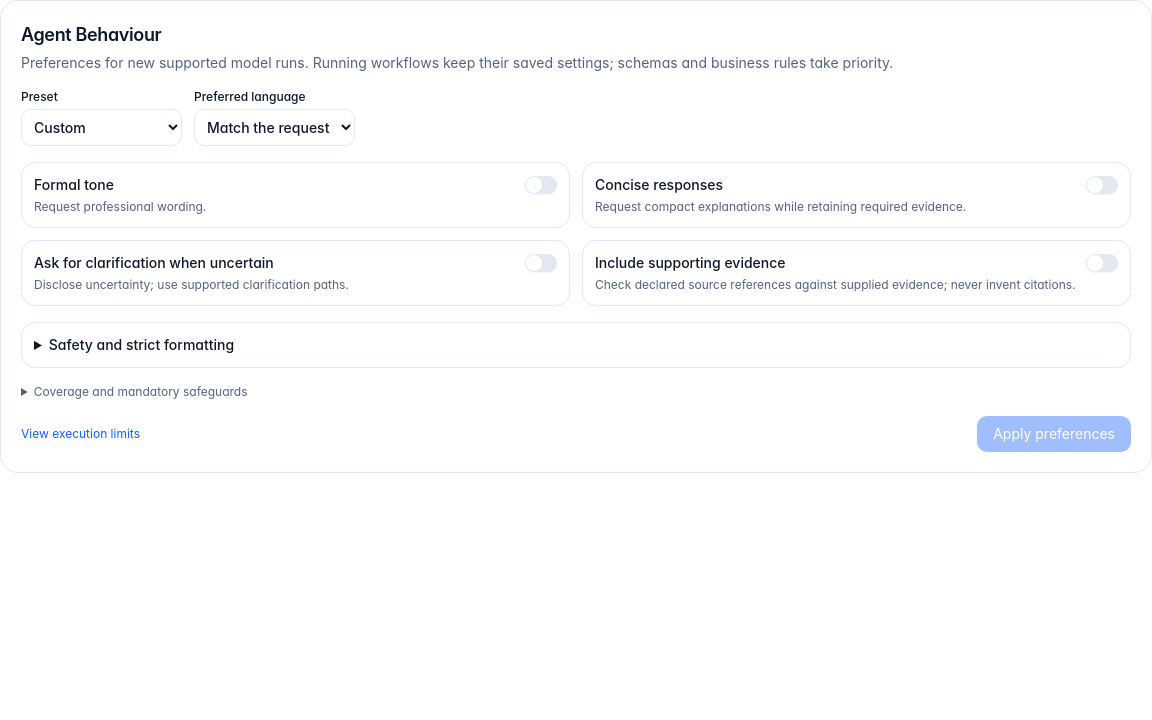
Test: presets visibly change switches and persist language with the actual backend settings revision
Select "Evidence-focused" in the dropdown named "Behaviour preset" at (102, 128), box [21, 109, 182, 146]
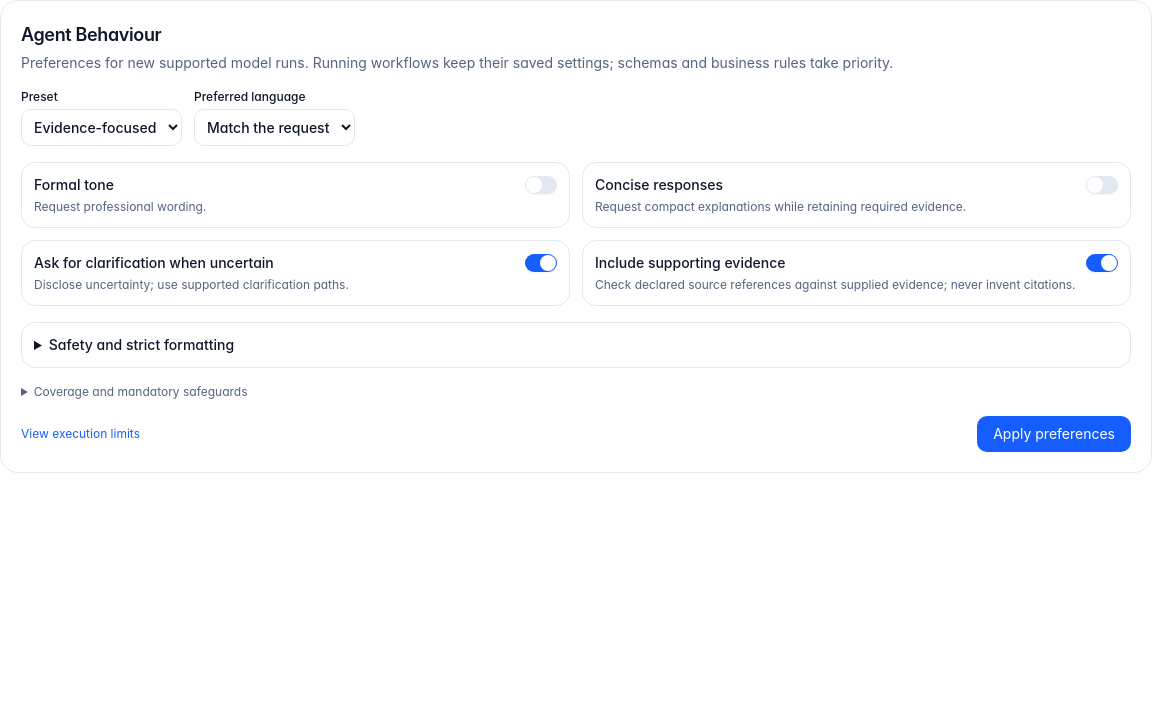
Expected: the switch named "Include supporting evidence" is checked, [1086, 254, 1118, 272]
Expected: the switch named "Ask for clarification when uncertain" is checked, [525, 254, 557, 272]
Select "Tamil" in the dropdown labelled "Preferred language" at (274, 128), box [194, 109, 355, 146]
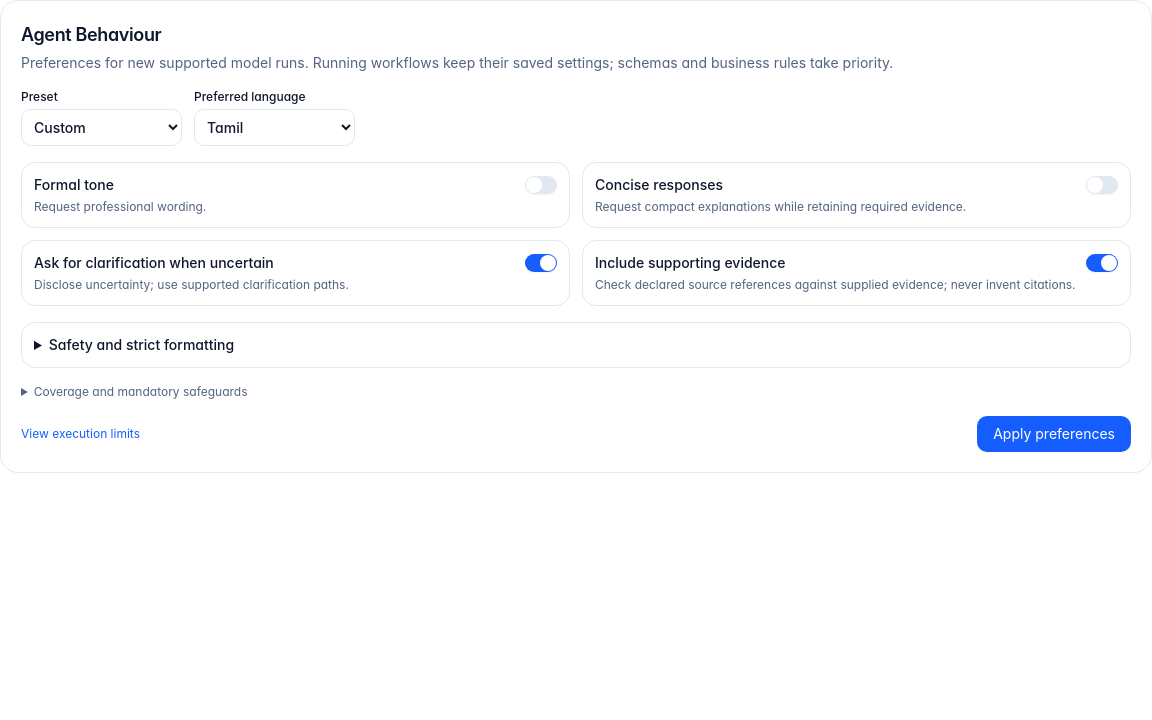
Click the button "Apply preferences" at (1054, 434), box [977, 416, 1131, 452]
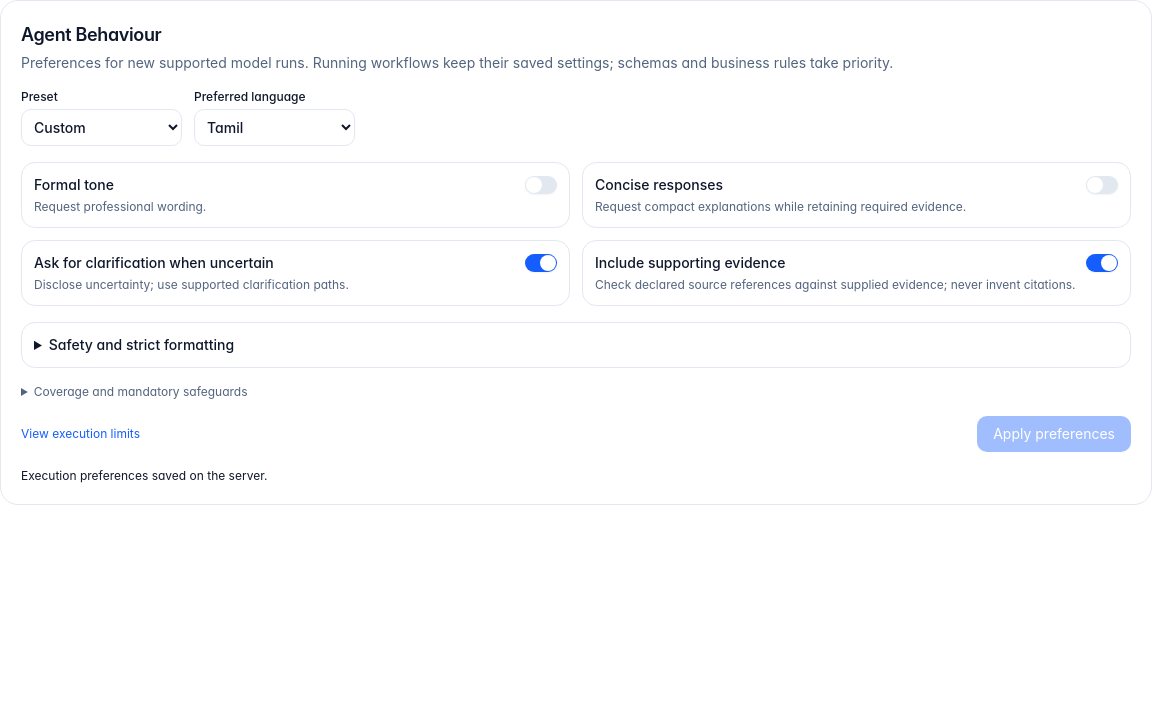
Expected: the text "Execution preferences saved on the server." is shown, [21, 468, 267, 483]
